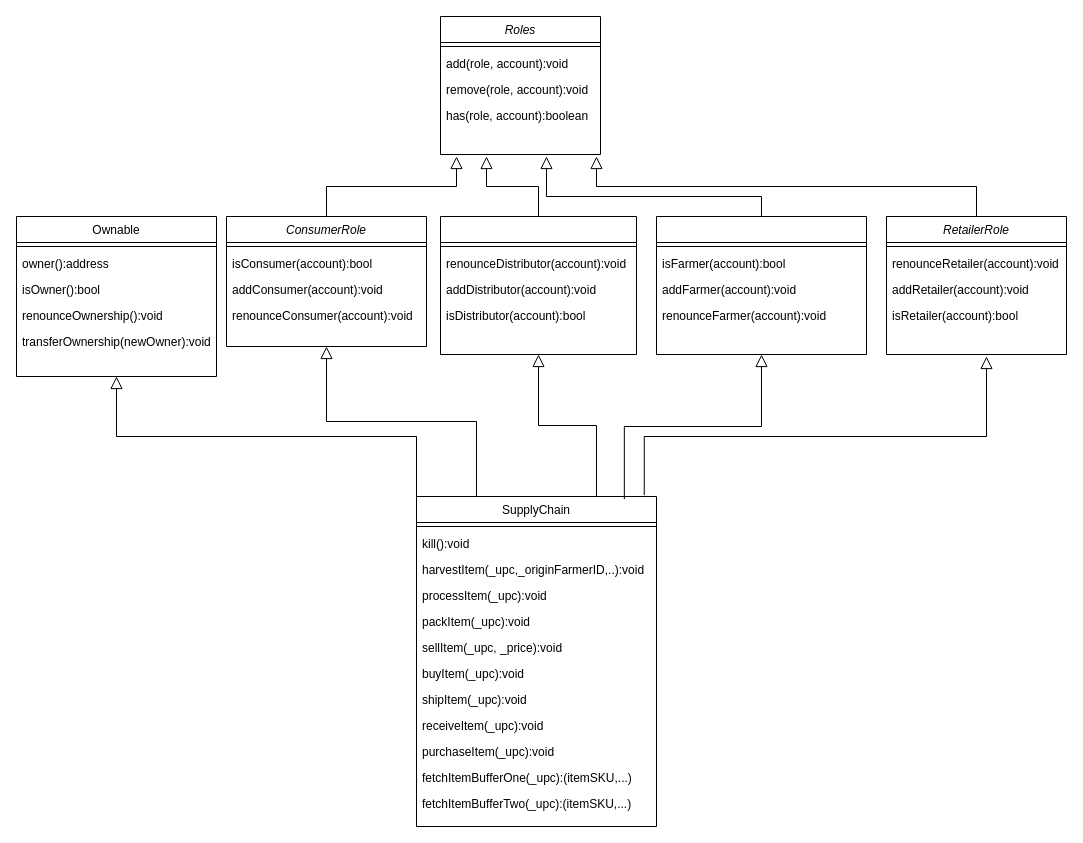
Image size: 1083x843. Some labels were removed from this diagram. The box of each missing label's shape, as (x1, y1, x2, y2) in pixels:
DistributorRole: (440, 216, 636, 354)
FarmerRole: (656, 216, 866, 354)
